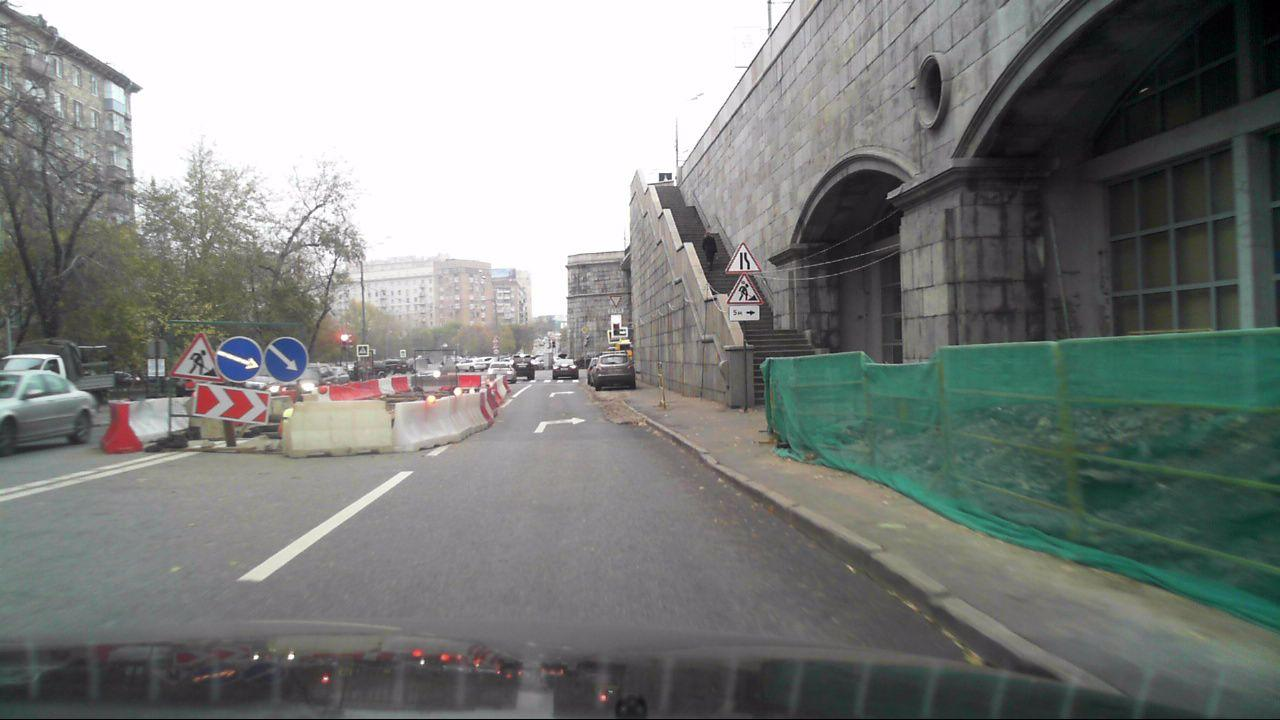1_20_2: (725, 242, 762, 273)
1_25: (173, 332, 221, 379), (725, 274, 766, 305)
1_34_1: (192, 383, 270, 424)
2_4: (608, 295, 622, 308)
4_2_1: (214, 335, 264, 382), (265, 337, 309, 383)
8_1_3: (727, 304, 760, 321)
